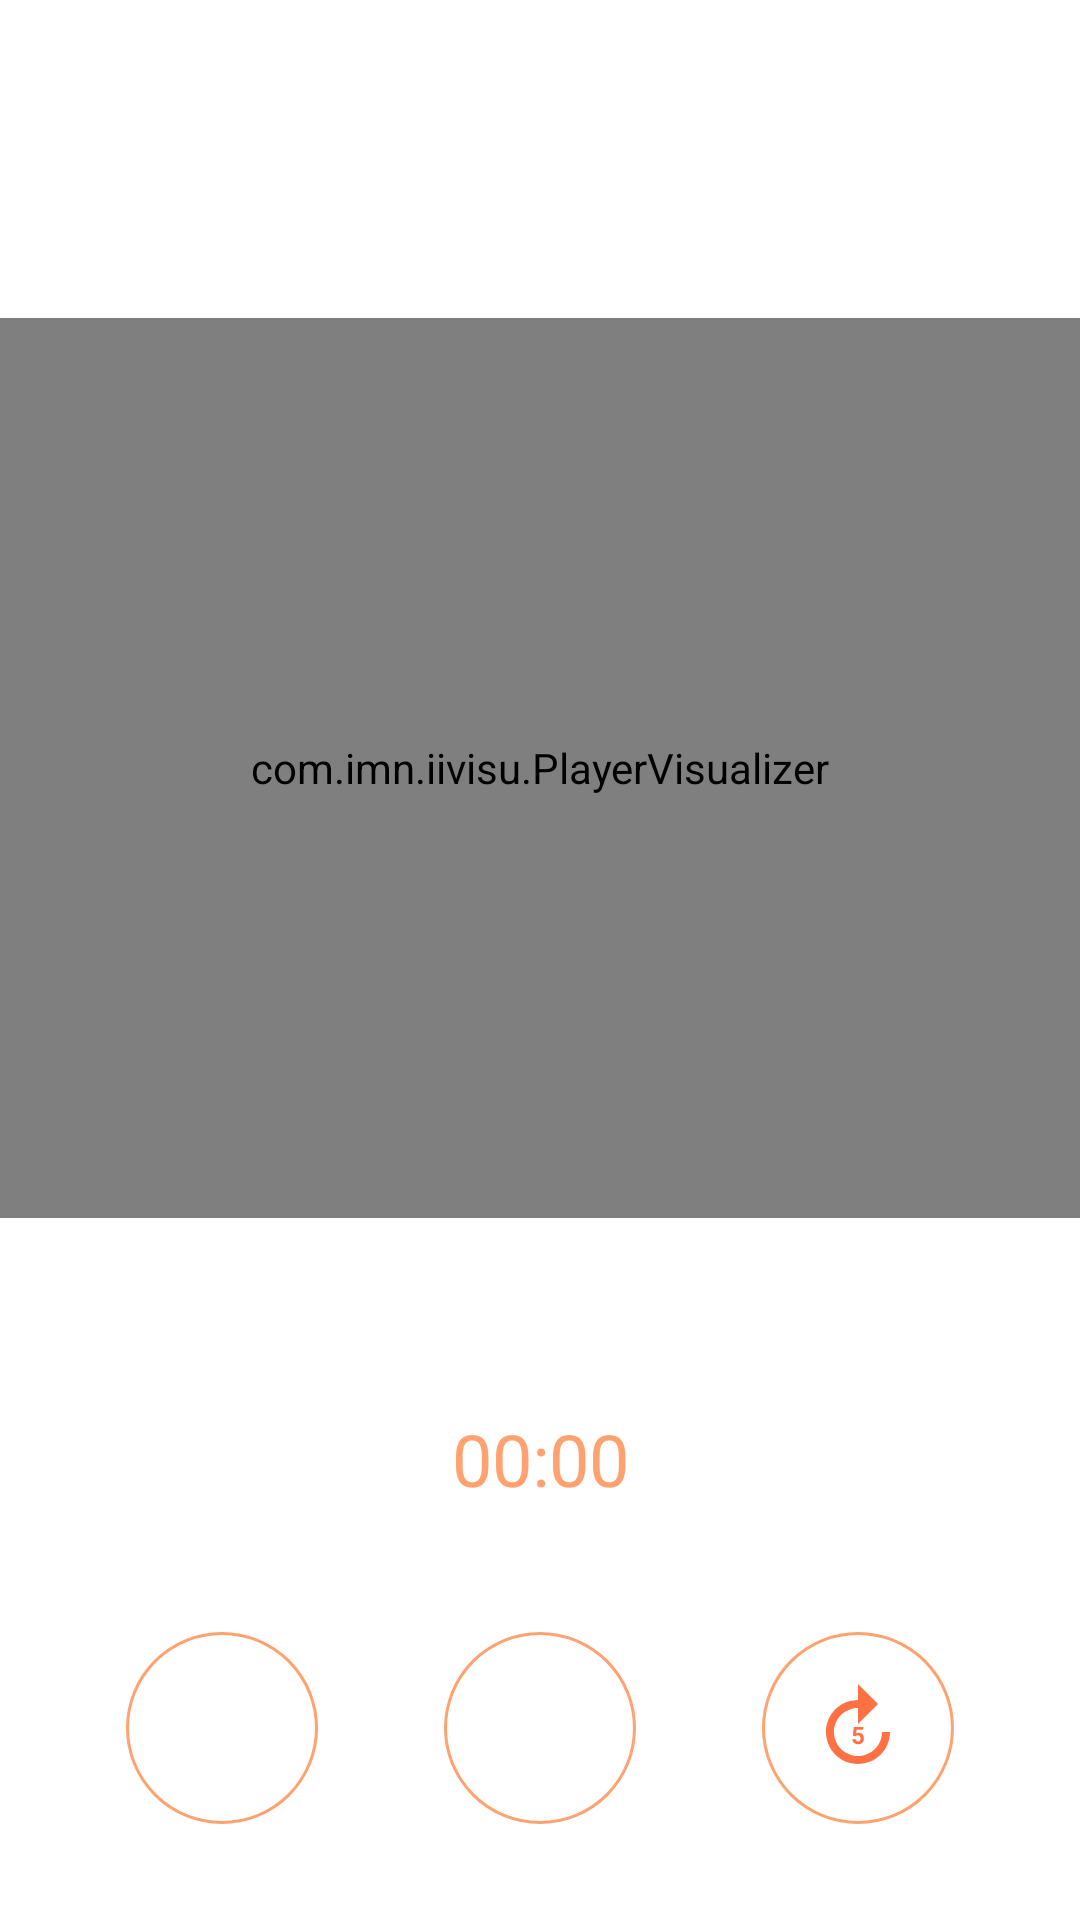

Icons on this 1080 x 1920 Android screen, each with the point to tap as point (x, y):
forward: point (858, 1728)
